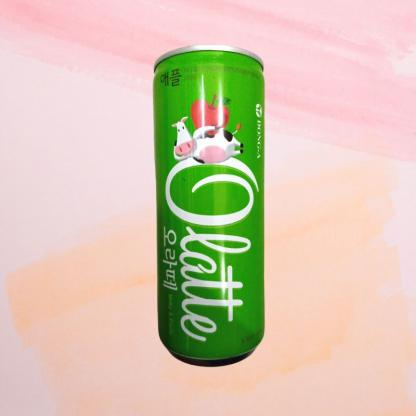can: (148, 36, 270, 370)
